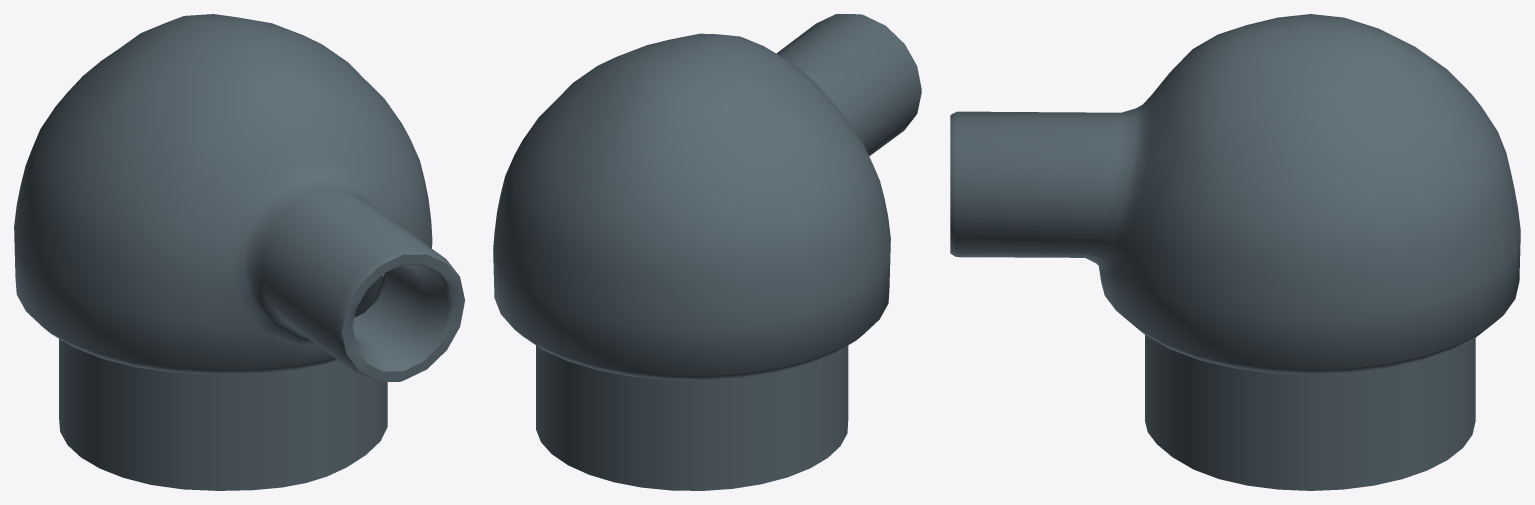
Rendered from gun.glb.
The picture shows the model from 3 angles, left to right: view 1: azimuth 30°, elevation 25°; view 2: azimuth 150°, elevation 25°; view 3: azimuth 270°, elevation 25°; orthographic projection. The views are drawn at different scales.
Parts seen in each view (by area): view 1: Sphere; view 2: Sphere; view 3: Sphere.
Part boxes in pixels (x1,y1,x2,y2): Sphere: [14, 14, 464, 490]; Sphere: [493, 14, 921, 490]; Sphere: [950, 14, 1520, 490].
Bounding box in the file's own units: 1.94 × 1.99 × 2.63.
